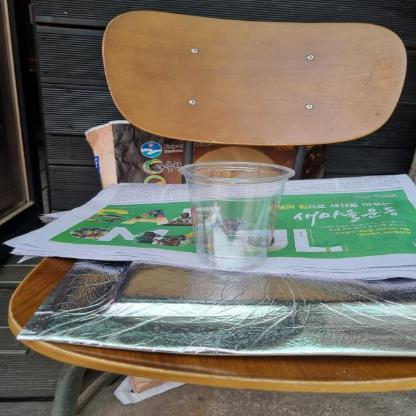Plastic Cup: (174, 162, 298, 272)
